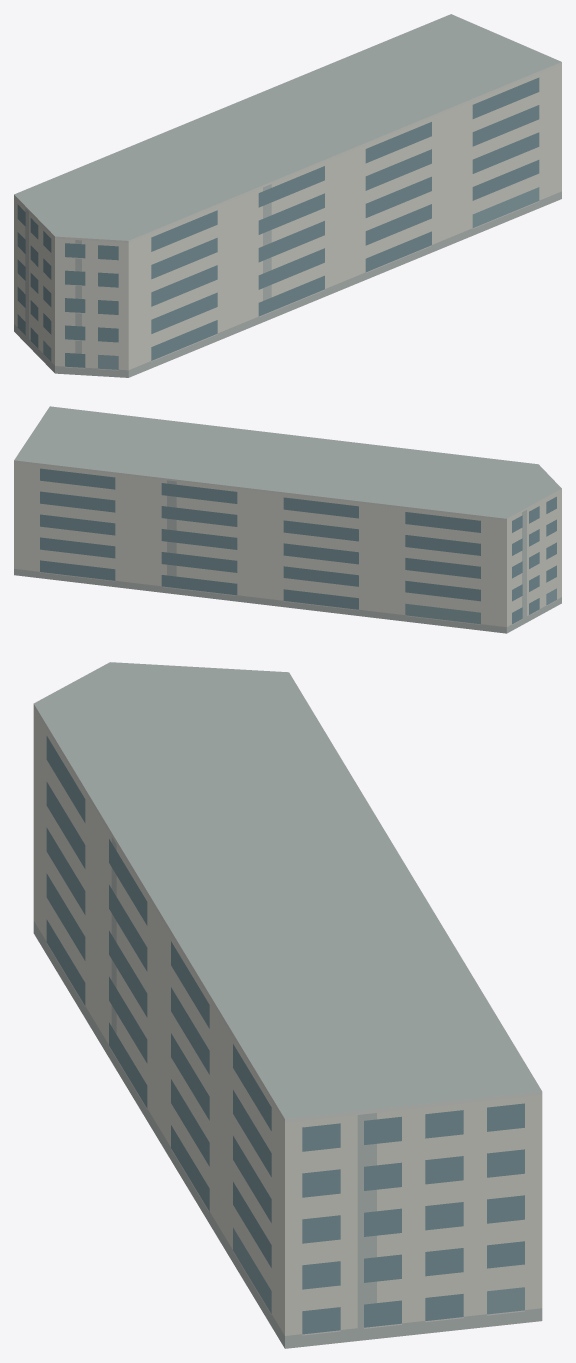
The model's file is residential-1ca1cc78-4978-4a90-b59e-b256a1b533b7.glb.
3 views of the same model, one above another, from view 1: azimuth 30°, elevation 25°; view 2: azimuth 150°, elevation 25°; view 3: azimuth 270°, elevation 25° (orthographic). The views are drawn at different scales.
Parts seen in each view (by area): view 1: residential-1ca1cc78-4978-4a90-b59e-b256a1b533b7.tmp; view 2: residential-1ca1cc78-4978-4a90-b59e-b256a1b533b7.tmp; view 3: residential-1ca1cc78-4978-4a90-b59e-b256a1b533b7.tmp.
Part boxes in pixels (box(x1,y1,x2,y2)): residential-1ca1cc78-4978-4a90-b59e-b256a1b533b7.tmp: box(14, 14, 561, 377); residential-1ca1cc78-4978-4a90-b59e-b256a1b533b7.tmp: box(14, 406, 561, 633); residential-1ca1cc78-4978-4a90-b59e-b256a1b533b7.tmp: box(33, 662, 542, 1348).
Bounding box in the file's own units: 65.11 × 15.25 × 30.62.
